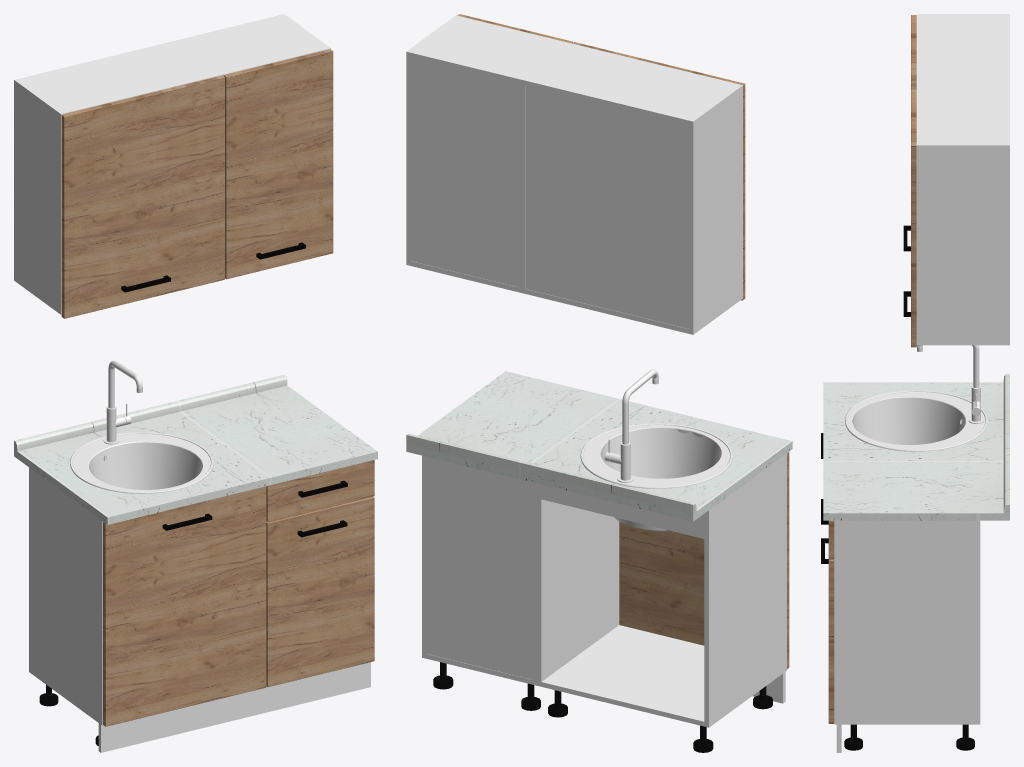
The model's file is BPlanner_project_31.8.2022_14_38.glb.
The picture shows the model from 3 angles, left to right: view 1: azimuth 30°, elevation 25°; view 2: azimuth 150°, elevation 25°; view 3: azimuth 270°, elevation 25°; orthographic projection. The views are drawn at different scales.
Parts seen in each view (by area): view 1: 596,716;1224;Facade_top_mesh_7B125D60-8785-4F0D-B483-02D7F0C, 596,720;1224;Facade_bottom_mesh_2F801C16-6C8E-4C6E-843C-BF7A, 396,716;1224;Facade_top_mesh_BF957969-AC8D-4436-81C8-6A1F8D3, 396,580;1224;Facade_bottom_mesh_E6FCECD6-5D1E-4C75-B64A-2FB8, 470,724;1215;Cabinet_bottom_63CD6321-3140-4793-A3FE-57809C20, 400,600;1217;Tabletop_mesh, 300,710;1215;Cabinet_top_6AE3DD84-E872-49BE-AA59-0AAF85B796D, 600,600;1217;Tabletop_mesh, 568,300;1215;Cabinet_top_4613C4BB-14C1-4C1D-B5F0-53FDA5F9CD3, undefined;Washer_5425EE1F-C43E-43CB-81E5-3C14E690CDAC, 368,300;1215;Cabinet_top_B46E1066-351A-44C5-B517-05C2B545F26, 600,100;1215;Cokol_650FCD3D-54B6-47B7-BA73-5C579351FB29 (+5 smaller); view 2: 584,710;1215;Cabinet_top_016A6A7A-1C9C-4702-95C8-FC320865A0B, 384,710;1215;Cabinet_top_33FCE4CA-B5B5-4977-B654-6D867841E34, 384,724;1215;Cabinet_bottom_37D98679-7B09-4E4B-80FE-0812584E, 470,724;1215;Cabinet_bottom_63CD6321-3140-4793-A3FE-57809C20, 470,724;1215;Cabinet_bottom_8C8BDE1A-0D84-4601-8EC2-163CD31F, 300,710;1215;Cabinet_top_6AE3DD84-E872-49BE-AA59-0AAF85B796D, 400,600;1217;Tabletop_mesh, 568,470;1215;Cabinet_bottom_856489B0-B810-4CEB-A20D-9DEAE2BB, 596,720;1224;Facade_bottom_mesh_2F801C16-6C8E-4C6E-843C-BF7A, 600,600;1217;Tabletop_mesh, 568,300;1215;Cabinet_top_4613C4BB-14C1-4C1D-B5F0-53FDA5F9CD3, undefined;Washer_5425EE1F-C43E-43CB-81E5-3C14E690CDAC (+12 smaller); view 3: 470,724;1215;Cabinet_bottom_64AEA724-32EC-4632-AEA5-93C19C57, 300,710;1215;Cabinet_top_4B4A797A-4580-4EB6-8BAB-A62A0E76AE9, 400,600;1217;Tabletop_mesh, 600,600;1217;Tabletop_mesh, 568,300;1215;Cabinet_top_4613C4BB-14C1-4C1D-B5F0-53FDA5F9CD3, undefined;Washer_5425EE1F-C43E-43CB-81E5-3C14E690CDAC, 368,300;1215;Cabinet_top_B46E1066-351A-44C5-B517-05C2B545F26, 396,716;1224;Facade_top_mesh_BF957969-AC8D-4436-81C8-6A1F8D3, 396,580;1224;Facade_bottom_mesh_E6FCECD6-5D1E-4C75-B64A-2FB8, undefined;Washer_12C78941-D200-419B-A01D-954A73197568, 600,30;1217;Tabletop_mesh_A0FB3BB1-275E-4D7D-9522-93A77C67A7, 596,716;1224;Facade_top_mesh_7B125D60-8785-4F0D-B483-02D7F0C (+1 smaller).
Part boxes in pixels (x1,y1,x2,y2): 596,716;1224;Facade_top_mesh_7B125D60-8785-4F0D-B483-02D7F0C: (61,75,224,318); 596,720;1224;Facade_bottom_mesh_2F801C16-6C8E-4C6E-843C-BF7A: (103,486,266,726); 396,716;1224;Facade_top_mesh_BF957969-AC8D-4436-81C8-6A1F8D3: (223,49,333,279); 396,580;1224;Facade_bottom_mesh_E6FCECD6-5D1E-4C75-B64A-2FB8: (266,496,374,686); 470,724;1215;Cabinet_bottom_63CD6321-3140-4793-A3FE-57809C20: (29,467,102,725); 400,600;1217;Tabletop_mesh: (179,385,377,485); 300,710;1215;Cabinet_top_6AE3DD84-E872-49BE-AA59-0AAF85B796D: (14,79,65,314); 600,600;1217;Tabletop_mesh: (14,412,269,524); 568,300;1215;Cabinet_top_4613C4BB-14C1-4C1D-B5F0-53FDA5F9CD3: (19,41,218,113); undefined;Washer_5425EE1F-C43E-43CB-81E5-3C14E690CDAC: (70,432,213,493); 368,300;1215;Cabinet_top_B46E1066-351A-44C5-B517-05C2B545F26: (181,15,326,73); 600,100;1215;Cokol_650FCD3D-54B6-47B7-BA73-5C579351FB29: (98,688,262,752); 584,710;1215;Cabinet_top_016A6A7A-1C9C-4702-95C8-FC320865A0B: (526,80,690,328); 384,710;1215;Cabinet_top_33FCE4CA-B5B5-4977-B654-6D867841E34: (409,51,518,286); 384,724;1215;Cabinet_bottom_37D98679-7B09-4E4B-80FE-0812584E: (426,457,532,679); 470,724;1215;Cabinet_bottom_63CD6321-3140-4793-A3FE-57809C20: (704,453,786,727); 470,724;1215;Cabinet_bottom_8C8BDE1A-0D84-4601-8EC2-163CD31F: (536,483,619,686); 300,710;1215;Cabinet_top_6AE3DD84-E872-49BE-AA59-0AAF85B796D: (688,84,742,334); 400,600;1217;Tabletop_mesh: (406,371,619,479); 568,470;1215;Cabinet_bottom_856489B0-B810-4CEB-A20D-9DEAE2BB: (541,625,704,726); 596,720;1224;Facade_bottom_mesh_2F801C16-6C8E-4C6E-843C-BF7A: (619,452,789,668); 600,600;1217;Tabletop_mesh: (521,399,792,521); 568,300;1215;Cabinet_top_4613C4BB-14C1-4C1D-B5F0-53FDA5F9CD3: (525,44,737,125); undefined;Washer_5425EE1F-C43E-43CB-81E5-3C14E690CDAC: (580,423,732,530); 470,724;1215;Cabinet_bottom_64AEA724-32EC-4632-AEA5-93C19C57: (834,520,980,724); 300,710;1215;Cabinet_top_4B4A797A-4580-4EB6-8BAB-A62A0E76AE9: (916,143,1009,345); 400,600;1217;Tabletop_mesh: (823,461,1009,520); 600,600;1217;Tabletop_mesh: (823,382,1003,460); 568,300;1215;Cabinet_top_4613C4BB-14C1-4C1D-B5F0-53FDA5F9CD3: (916,16,1009,90); undefined;Washer_5425EE1F-C43E-43CB-81E5-3C14E690CDAC: (845,390,987,451); 368,300;1215;Cabinet_top_B46E1066-351A-44C5-B517-05C2B545F26: (916,95,1009,143); 396,716;1224;Facade_top_mesh_BF957969-AC8D-4436-81C8-6A1F8D3: (911,93,916,347); 396,580;1224;Facade_bottom_mesh_E6FCECD6-5D1E-4C75-B64A-2FB8: (828,559,834,723); undefined;Washer_12C78941-D200-419B-A01D-954A73197568: (917,345,983,423); 600,30;1217;Tabletop_mesh_A0FB3BB1-275E-4D7D-9522-93A77C67A7: (1003,373,1009,457); 596,716;1224;Facade_top_mesh_7B125D60-8785-4F0D-B483-02D7F0C: (911,15,916,93).
Size of the model in its own units: 100 by 216 by 60.7.
49 materials, 40 textured.
